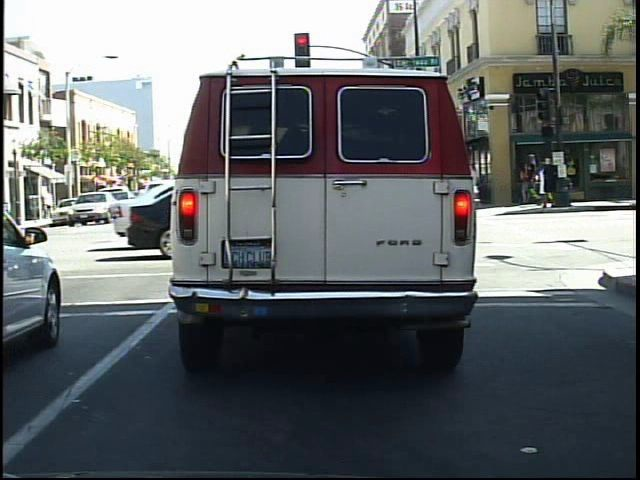person: (538, 154, 563, 215), (524, 150, 545, 210), (516, 157, 535, 210), (542, 159, 547, 209)
